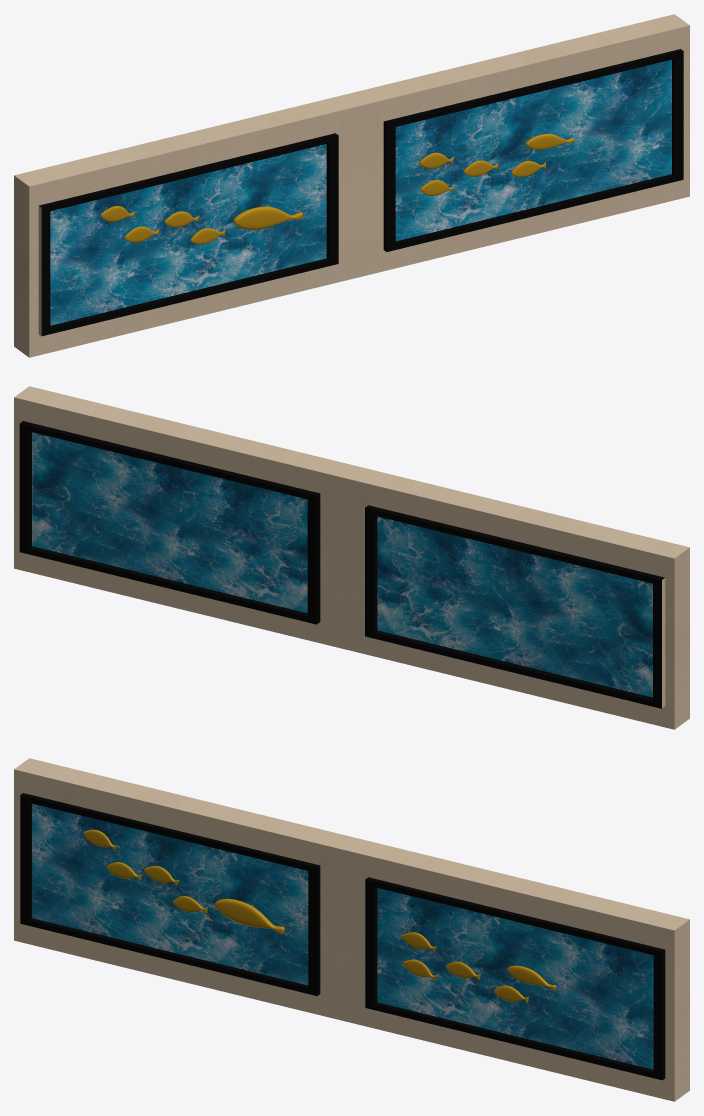
File: door-wall.gltf
The picture shows the model from 3 angles, top to bottom: view 1: azimuth 30°, elevation 25°; view 2: azimuth 150°, elevation 25°; view 3: azimuth 330°, elevation 25°; orthographic projection.
Visible parts, largest first — view 1: Plane.104; view 2: Plane.104; view 3: Plane.104.
Boxes of the visible parts, x1,y1,x2,y2 form: Plane.104: [14, 14, 689, 357]; Plane.104: [14, 386, 689, 729]; Plane.104: [14, 758, 689, 1101].
Size of the model in its own units: 2.5 by 0.619 by 0.145.
Materials: 4 (3 with a texture image).
